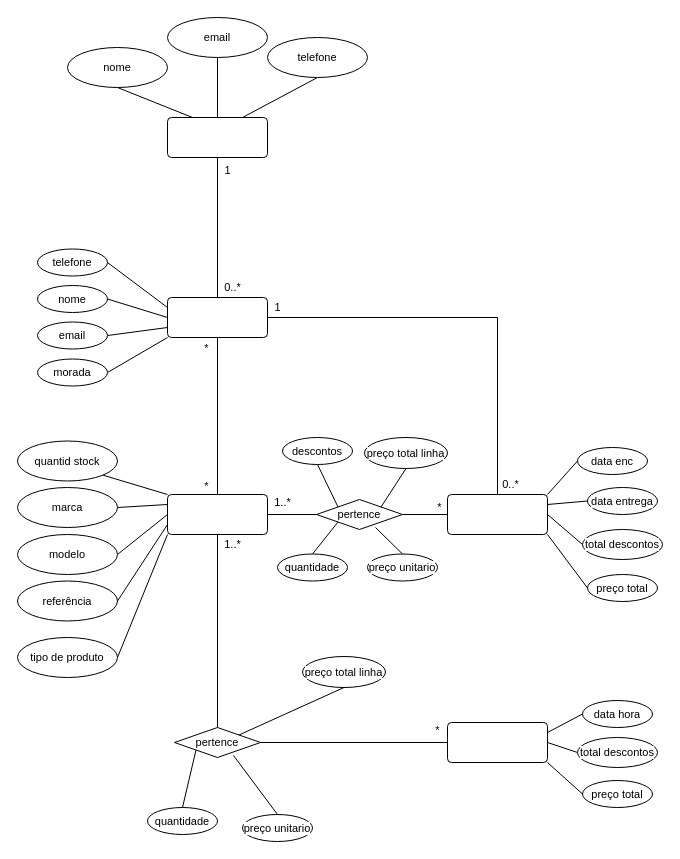
The diagram is 680 pixels wide and 859 high, and some of its shapes have lost their labels. The shapes that lost their labels are listed below. From the top down, each one's centre as x and y in pixels, then its label:
At point 217,137: "Representante".
At point 217,317: "Fornecedor".
At point 217,514: "Produto".
At point 497,514: "Encomenda".
At point 497,742: "Venda".
